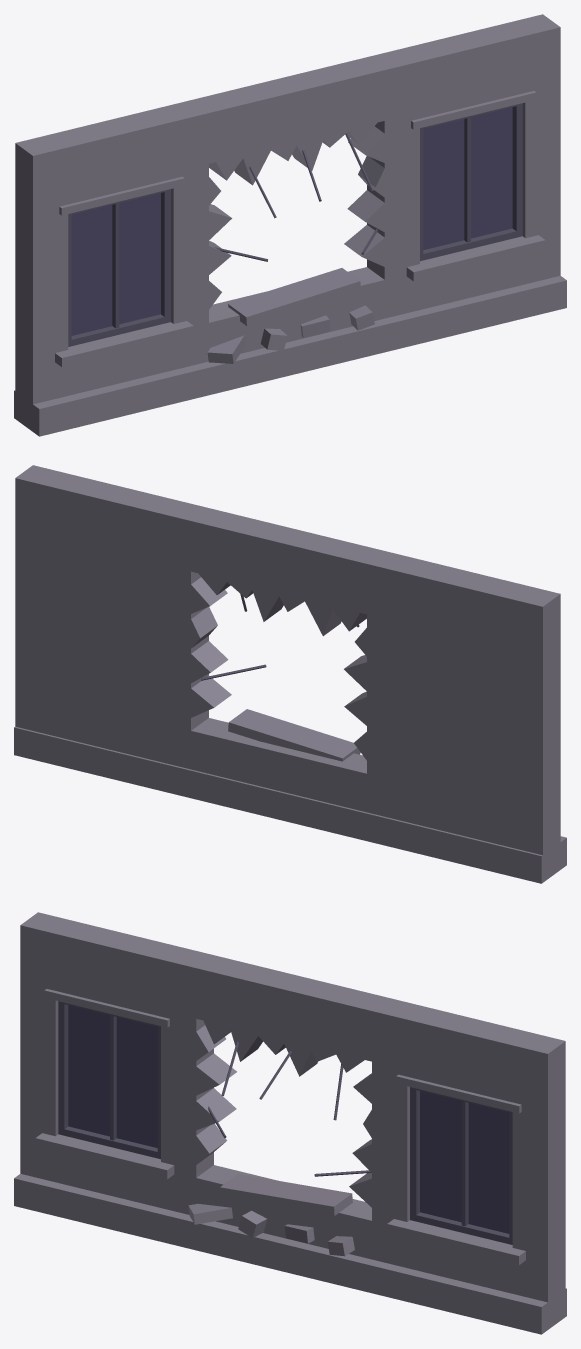
The model's file is FacadeDamaged.glb.
3 renders of one model, top to bottom at view 1: azimuth 30°, elevation 25°; view 2: azimuth 150°, elevation 25°; view 3: azimuth 330°, elevation 25°, orthographic.
Visible parts, largest first — view 1: spandrel (×2), pier (×8), window (×2), floor-slab, sill (×3), wall (×3), window-frame (×8), chunk (×7), lintel (×2); view 2: wall (×4), floor-slab, spandrel (×2), chunk (×6), sill, pier; view 3: spandrel (×2), pier (×8), window (×2), floor-slab, sill (×3), wall (×3), window-frame (×8), chunk (×7), lintel (×2).
Boxes of the visible parts, x1,y1,x2,y2 form: spandrel (×2): [24, 21, 560, 404]; pier (×8): [24, 78, 560, 365]; window (×2): [71, 107, 512, 335]; floor-slab: [14, 276, 566, 436]; sill (×3): [55, 235, 545, 367]; wall (×3): [15, 14, 551, 424]; window-frame (×8): [68, 103, 522, 346]; chunk (×7): [207, 126, 384, 363]; lintel (×2): [59, 91, 536, 215]; wall (×4): [15, 471, 551, 855]; floor-slab: [14, 726, 566, 883]; spandrel (×2): [24, 465, 560, 848]; chunk (×6): [191, 577, 341, 717]; sill: [228, 709, 360, 761]; pier: [551, 658, 560, 802]; spandrel (×2): [20, 919, 556, 1302]; pier (×8): [20, 976, 556, 1263]; window (×2): [68, 1005, 509, 1233]; floor-slab: [14, 1174, 566, 1334]; sill (×3): [35, 1133, 525, 1265]; wall (×3): [29, 912, 565, 1322]; window-frame (×8): [58, 1001, 512, 1244]; chunk (×7): [188, 1027, 317, 1237]; lintel (×2): [44, 989, 521, 1113].
Bounding box in the file's own units: 6 × 3 × 0.8481.
